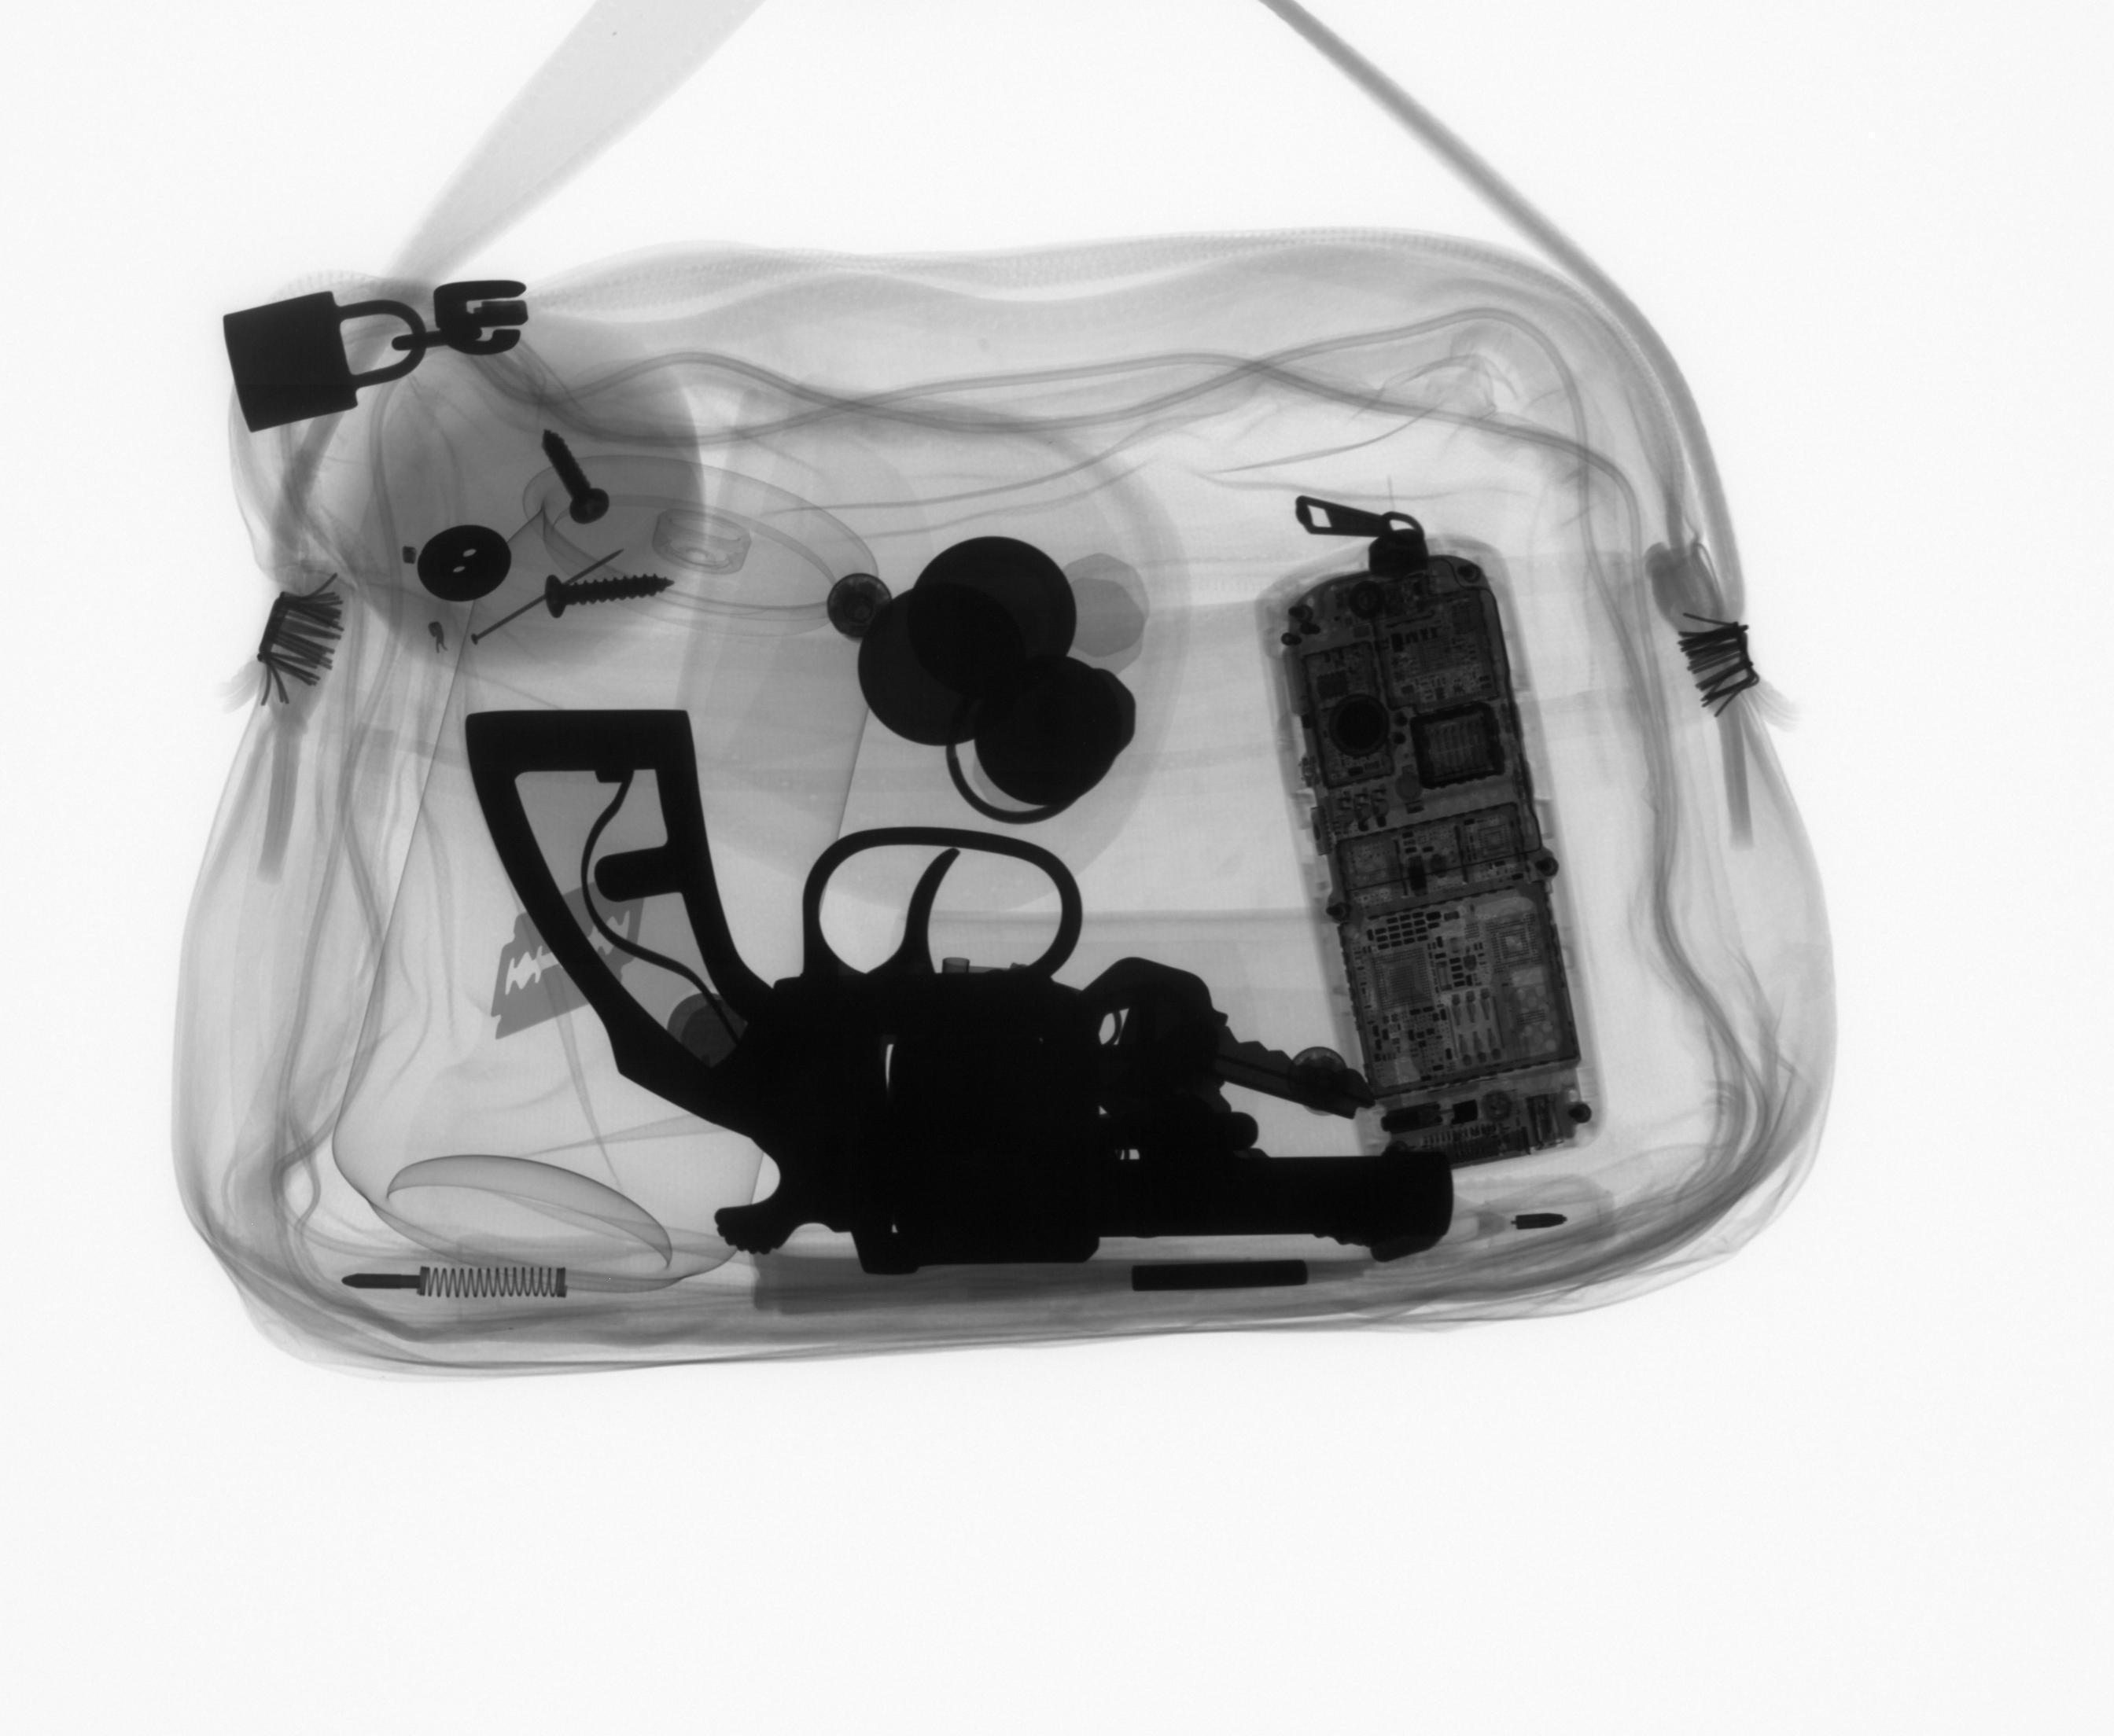Handgun: (451, 697, 1466, 1285)
RazorBlade: (483, 870, 651, 1048)
